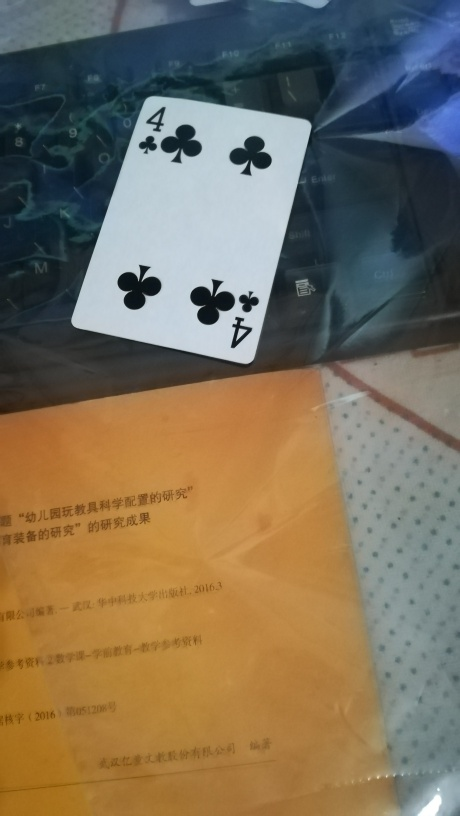mh 4: (72, 94, 310, 371)
